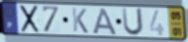4: (149, 9, 166, 38)
7: (41, 5, 61, 35)
A: (92, 7, 118, 36)
K: (71, 6, 89, 34)
U: (121, 7, 145, 37)
X: (20, 4, 41, 34)
